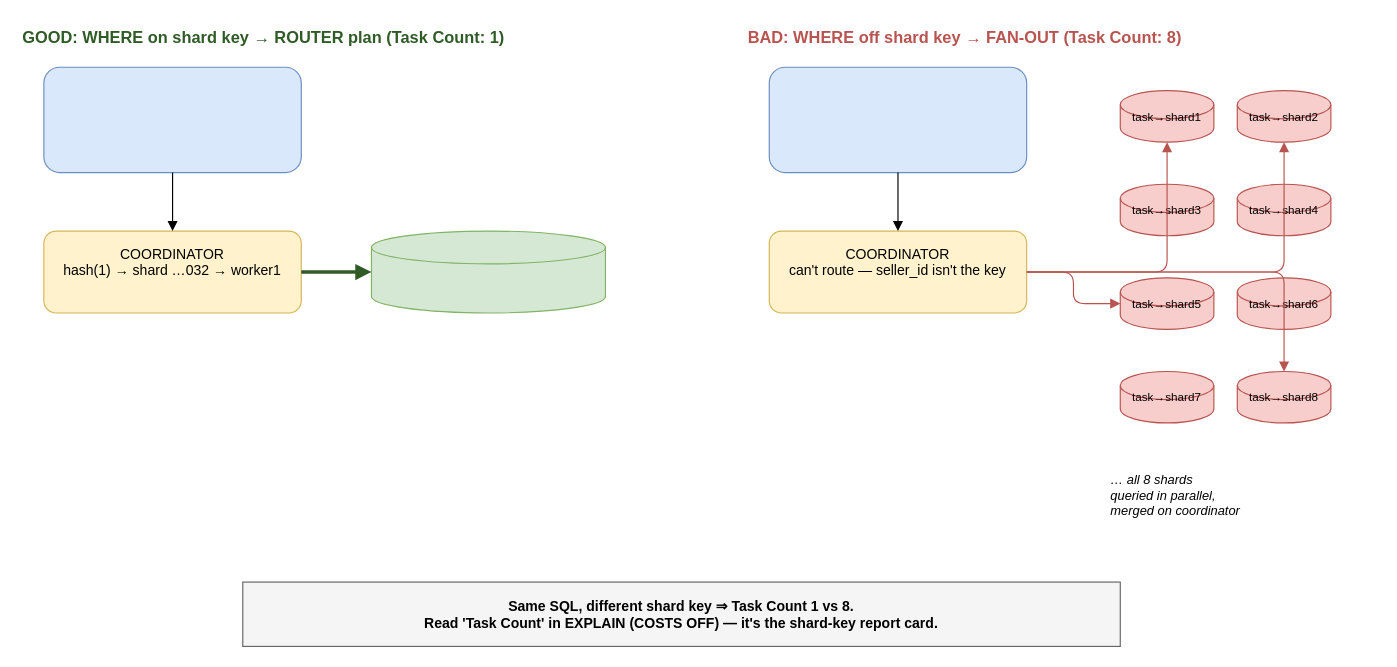
The diagram is 1397 pixels wide and 667 high, and some of its shapes have lost their labels. The centre of each missing label's shape, as x and y in pixels:
SELECT * FROM listings WHERE seller_id = 1 listings sharded BY listing_id: [897,119]
SELECT * FROM listings WHERE seller_id = 1 listings sharded BY seller_id: [172,119]
TASK 1 of 1 SELECT … FROM listings_102032: [487,271]
